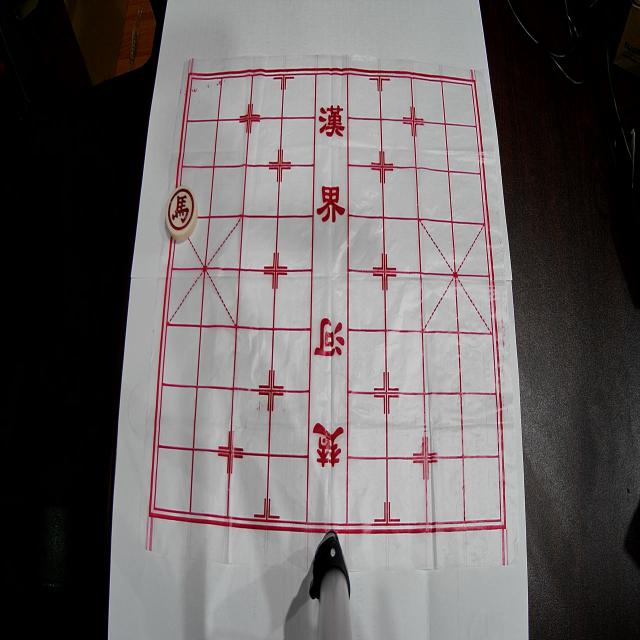red-horse: (166, 186, 198, 241)
